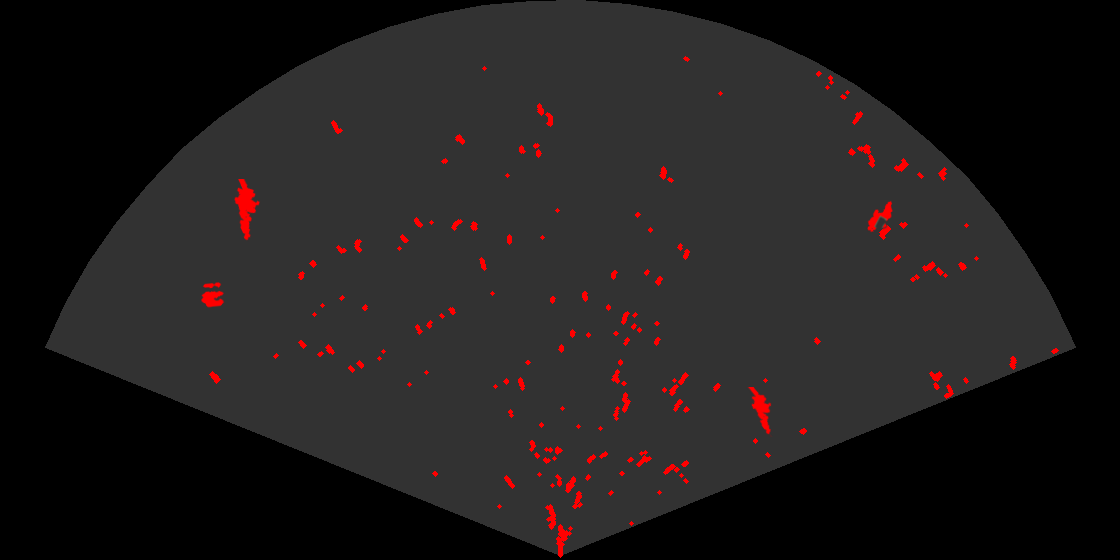AUV: (866, 199, 894, 234)
ball: (200, 281, 226, 309)
frogman: (233, 179, 261, 242), (746, 387, 774, 437)
